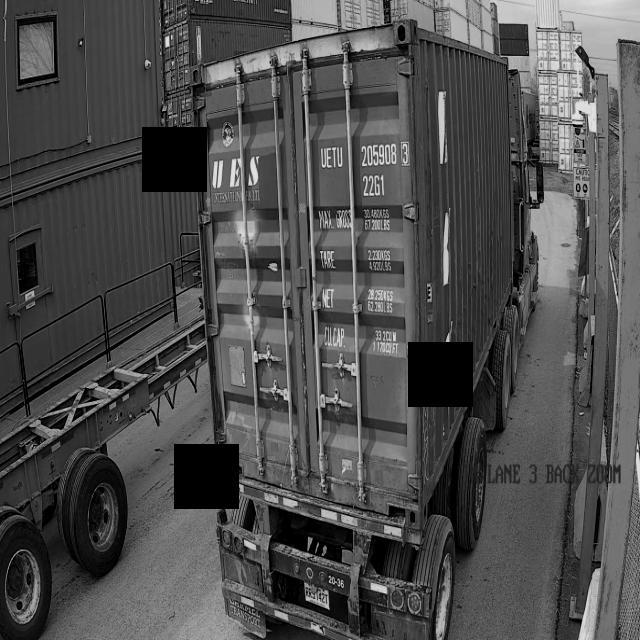container_company_logo: (210, 146, 276, 206)
container_number: (316, 132, 418, 199)
license_plate: (292, 579, 340, 614)
other_container_info: (316, 195, 413, 365)
truck_trailer: (0, 317, 206, 627)
truck_with_container: (190, 19, 543, 640)
